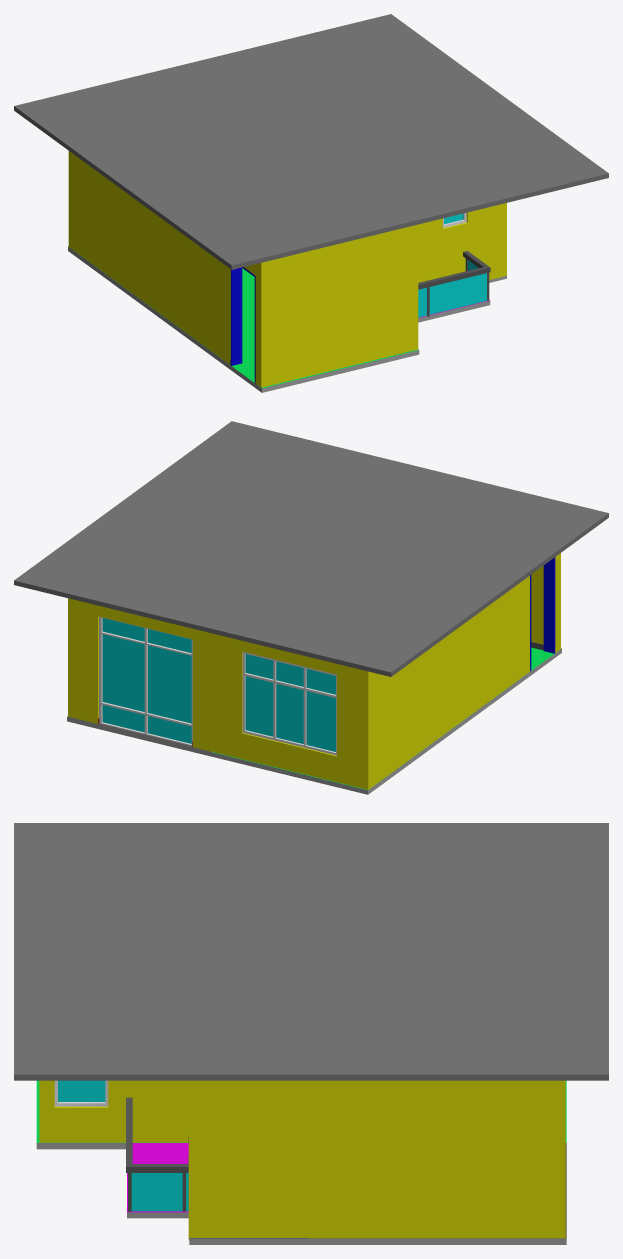
The model's file is Wing_A_Flat_No_02_Type02MatID.fbx.
3 views of the same model, one above another, from view 1: azimuth 30°, elevation 25°; view 2: azimuth 150°, elevation 25°; view 3: azimuth 270°, elevation 25° (orthographic). The views are drawn at different scales.
Parts seen in each view (by area): view 1: Roof1, Flat_No_02_Type01:Wall1, pCube6, Flat_No_03_celling__DoorFrame_Skerting1:Glass2, pCube5, Balcony_Railing_01; view 2: Roof1, Flat_No_02_Type01:Wall1, balacony_door:Door_Glass1, Glass, pCube6, balacony_door:Flat_No_03_Type03:Door_frame_03, Window_Frame, pCube5; view 3: Roof1, Flat_No_02_Type01:Wall1, pCube6, Flat_No_03_celling__DoorFrame_Skerting1:Glass2, Glass4, Balcony_Railing_01.
Boxes of the visible parts, box(x1,y1,x2,y2) form: Roof1: box(14, 14, 608, 269); Flat_No_02_Type01:Wall1: box(68, 151, 506, 387); pCube6: box(68, 246, 506, 392); Flat_No_03_celling__DoorFrame_Skerting1:Glass2: box(418, 258, 486, 317); pCube5: box(230, 267, 255, 382); Balcony_Railing_01: box(418, 251, 490, 289); Roof1: box(14, 421, 608, 676); Flat_No_02_Type01:Wall1: box(68, 553, 560, 789); balacony_door:Door_Glass1: box(102, 618, 191, 743); Glass: box(245, 654, 335, 751); pCube6: box(67, 647, 561, 794); balacony_door:Flat_No_03_Type03:Door_frame_03: box(99, 616, 192, 745); Window_Frame: box(242, 651, 336, 755); pCube5: box(530, 557, 555, 670); Roof1: box(14, 823, 608, 1080); Flat_No_02_Type01:Wall1: box(39, 1080, 565, 1239); pCube6: box(36, 1080, 566, 1244); Flat_No_03_celling__DoorFrame_Skerting1:Glass2: box(131, 1173, 188, 1211); Glass4: box(58, 1080, 105, 1101); Balcony_Railing_01: box(126, 1097, 188, 1172).
Bounding box in the file's own units: 870 × 315 × 870.
